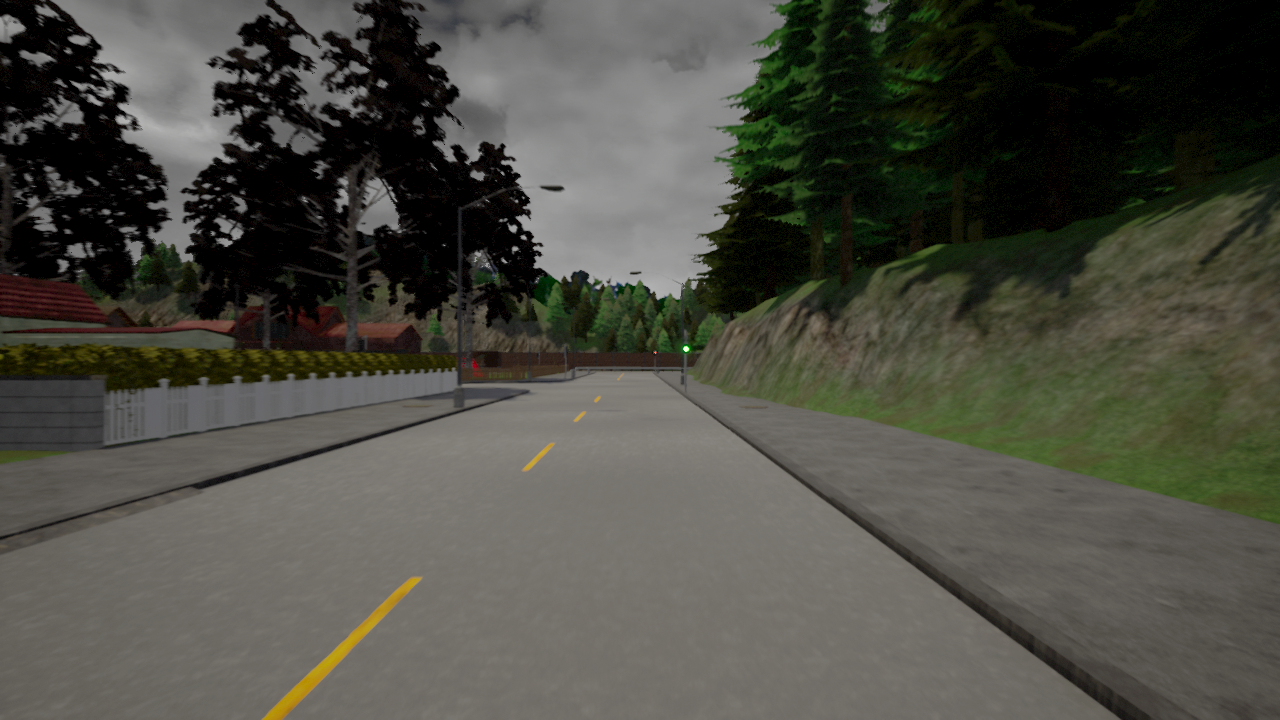green: (682, 335, 689, 353)
